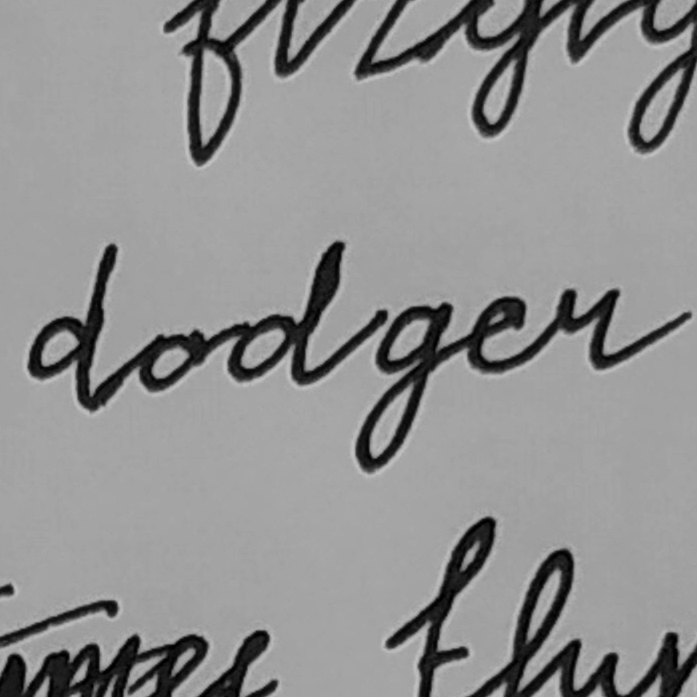d: (221, 235, 348, 388), (23, 236, 126, 414)
e: (459, 290, 535, 379)
g: (350, 297, 458, 475)
o: (129, 324, 213, 395)
r: (536, 282, 632, 373)
